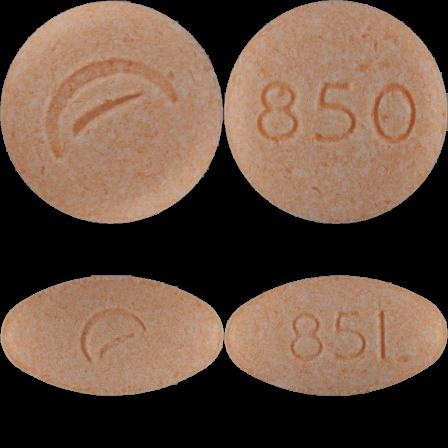42291-324: (0, 0, 224, 224)
